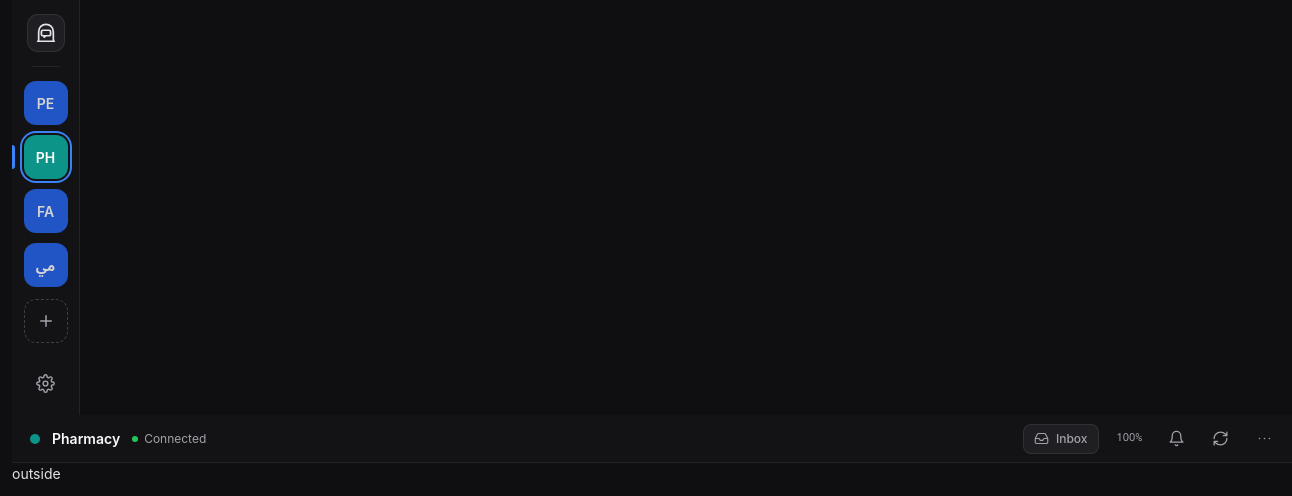
Scenario: AccountMenu › opened from the context bar "More": Esc gives focus back to that button
This screenshot has width=1292, height=496.
Click the button named "More actions" at (1264, 438), box [1248, 422, 1280, 454]
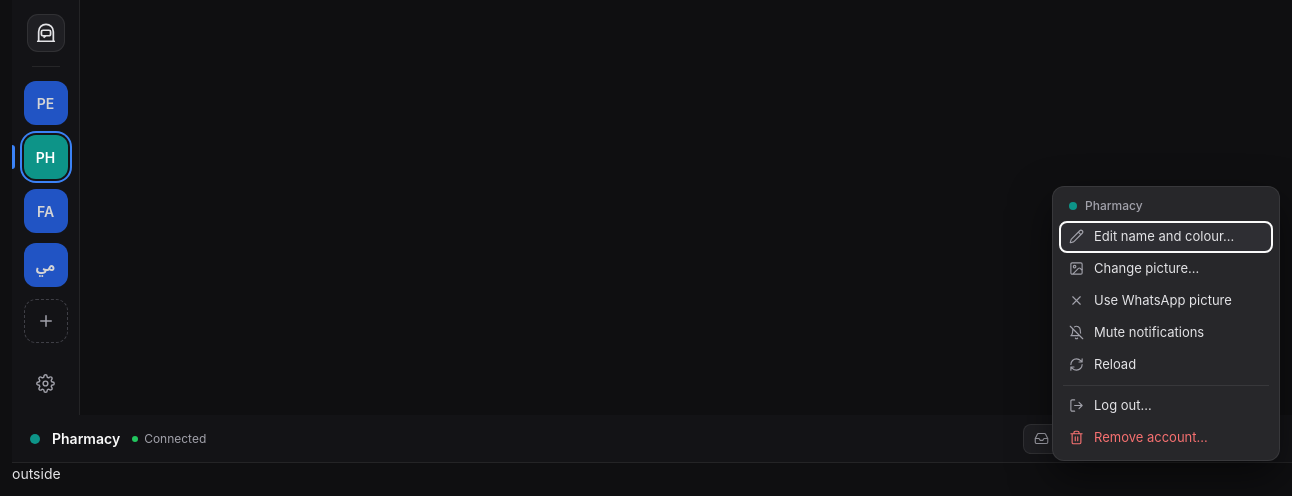
Check: the menu named "Actions for Pharmacy" is shown, box [1059, 220, 1273, 454]
Press Escape
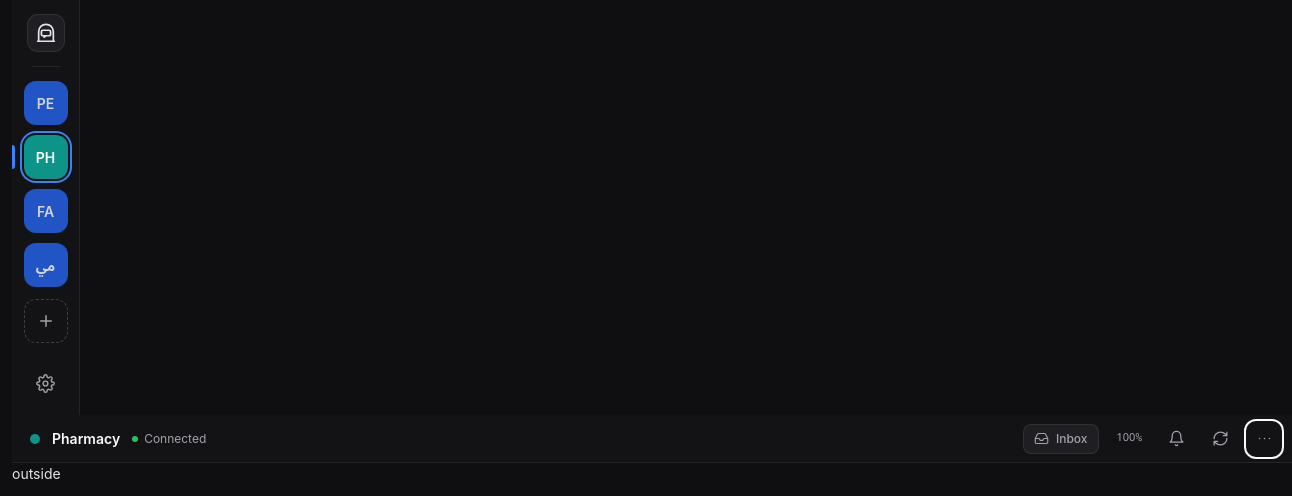
Check: the menu is gone
